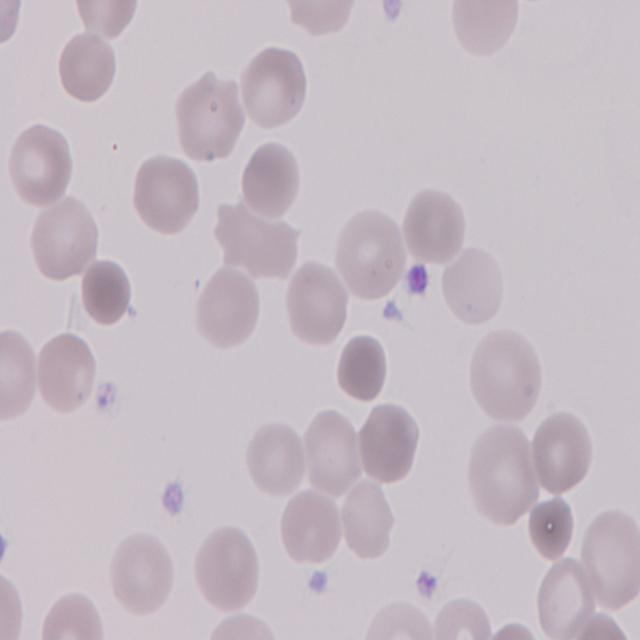Platelets: (406, 265, 432, 301)
RBC: (466, 424, 542, 536), (468, 324, 544, 426), (333, 202, 409, 301), (170, 66, 244, 166), (574, 505, 640, 617), (26, 190, 100, 282), (106, 526, 176, 622), (238, 41, 312, 131), (194, 520, 264, 612), (4, 119, 74, 208), (534, 554, 606, 640), (284, 258, 349, 352), (32, 329, 100, 416), (132, 152, 202, 236), (400, 182, 468, 268), (195, 265, 263, 350), (441, 242, 508, 328), (238, 136, 306, 219), (530, 408, 595, 494), (244, 414, 310, 496), (302, 408, 362, 498), (357, 400, 422, 483), (280, 486, 342, 566), (446, 0, 524, 63), (54, 26, 116, 101), (38, 586, 108, 640), (1, 331, 40, 420), (426, 593, 492, 640), (284, 0, 362, 36), (73, 0, 145, 37), (0, 567, 31, 640)
Spherocyte: (337, 330, 394, 404), (78, 252, 134, 326)
